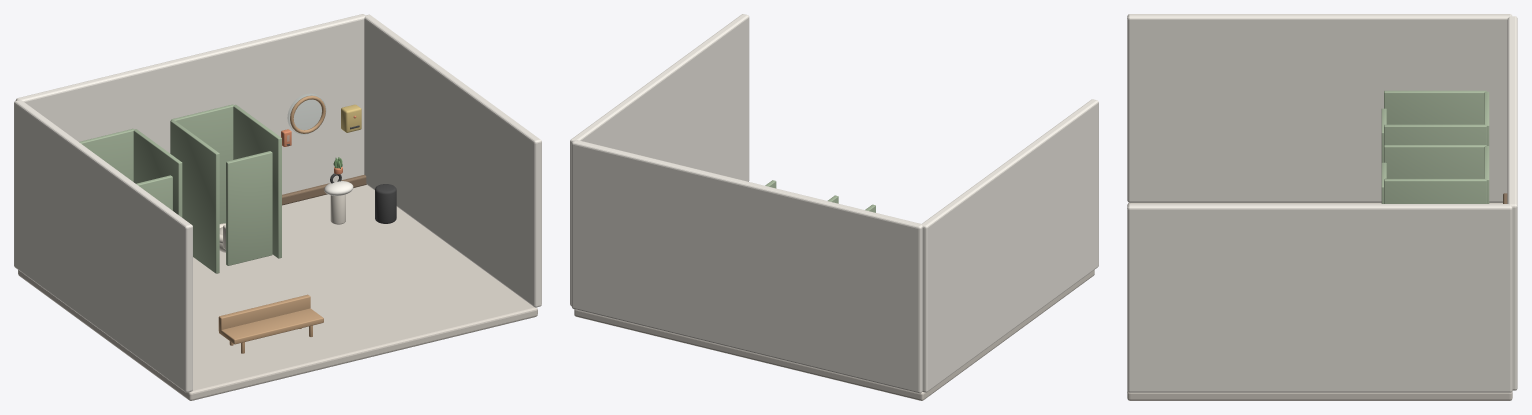
The model's file is room-restroom.glb.
The picture shows the model from 3 angles, left to right: view 1: azimuth 30°, elevation 25°; view 2: azimuth 150°, elevation 25°; view 3: azimuth 270°, elevation 25°; orthographic projection. The views are drawn at different scales.
Visible parts, largest first — view 1: room-restroom_floor, room-restroom_left, room-restroom_right, room-restroom_back, door.004, side.006, side.007, back.023, side.005, seat.054, back.022, back.024 (+5 smaller); view 2: room-restroom_back, room-restroom_left, room-restroom_right, room-restroom_floor; view 3: room-restroom_right, room-restroom_left, room-restroom_floor, side.004, side.006, room-restroom_back, side.007, side.005.
Part boxes in pixels (bbox=[...]): room-restroom_floor: bbox=[18, 185, 537, 400]; room-restroom_left: bbox=[14, 100, 192, 392]; room-restroom_right: bbox=[364, 14, 541, 307]; room-restroom_back: bbox=[15, 14, 365, 194]; door.004: bbox=[226, 151, 272, 265]; side.006: bbox=[170, 120, 219, 273]; side.007: bbox=[233, 104, 281, 258]; back.023: bbox=[171, 104, 233, 223]; side.005: bbox=[133, 129, 182, 217]; seat.054: bbox=[219, 308, 323, 344]; back.022: bbox=[79, 128, 134, 181]; back.024: bbox=[218, 294, 310, 332]; room-restroom_back: bbox=[571, 140, 922, 393]; room-restroom_left: bbox=[922, 99, 1098, 392]; room-restroom_right: bbox=[570, 14, 749, 305]; room-restroom_floor: bbox=[574, 270, 1094, 400]; room-restroom_right: bbox=[1127, 204, 1512, 392]; room-restroom_left: bbox=[1127, 14, 1512, 202]; room-restroom_floor: bbox=[1127, 202, 1512, 400]; side.004: bbox=[1384, 90, 1486, 124]; side.006: bbox=[1384, 145, 1486, 178]; room-restroom_back: bbox=[1507, 16, 1517, 390]; side.007: bbox=[1384, 178, 1486, 203]; side.005: bbox=[1384, 124, 1486, 145].
Size of the model in its own units: 7.16 by 3.38 by 6.08.
